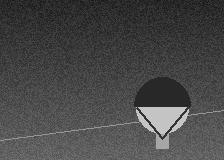helmet: (134, 77, 190, 138)
